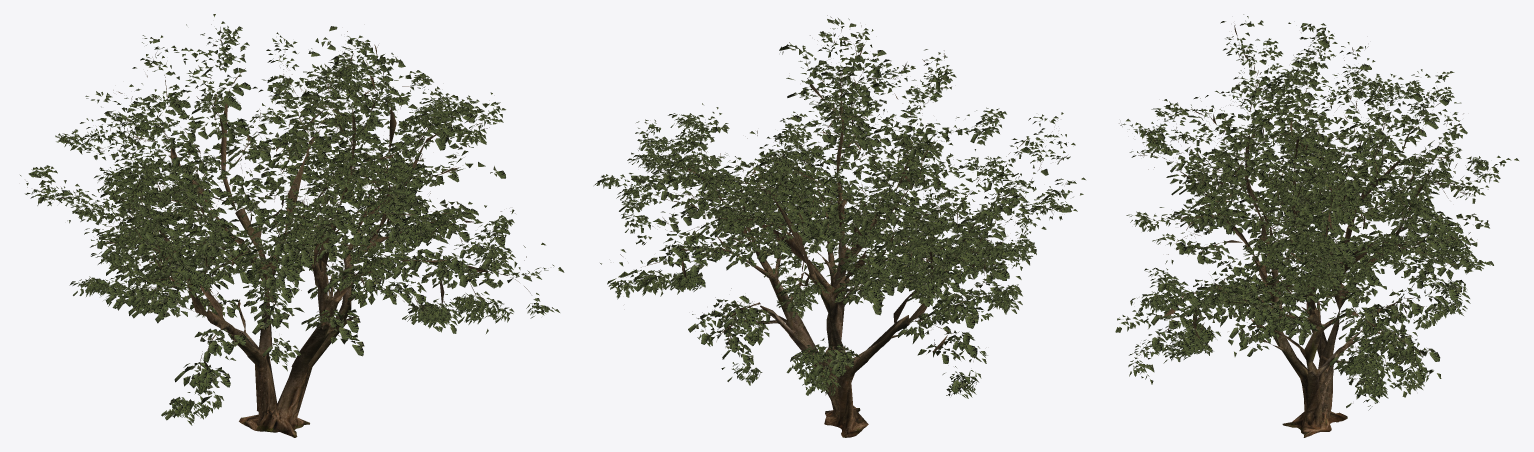
The model's file is jacaranda_tree.glb.
3 renders of one model, left to right at view 1: azimuth 30°, elevation 25°; view 2: azimuth 150°, elevation 25°; view 3: azimuth 270°, elevation 25°, orthographic. The views are drawn at different scales.
Visible parts, largest first — view 1: jacaranda_tree_LOD0; view 2: jacaranda_tree_LOD0; view 3: jacaranda_tree_LOD0.
Boxes of the visible parts, x1=… form: jacaranda_tree_LOD0: x1=20, y1=14, x2=564, y2=437; jacaranda_tree_LOD0: x1=594, y1=15, x2=1085, y2=437; jacaranda_tree_LOD0: x1=1115, y1=14, x2=1518, y2=437.
Size of the model in its own units: 23.97 by 19.41 by 18.92.
Materials: 3 (3 with a texture image).
